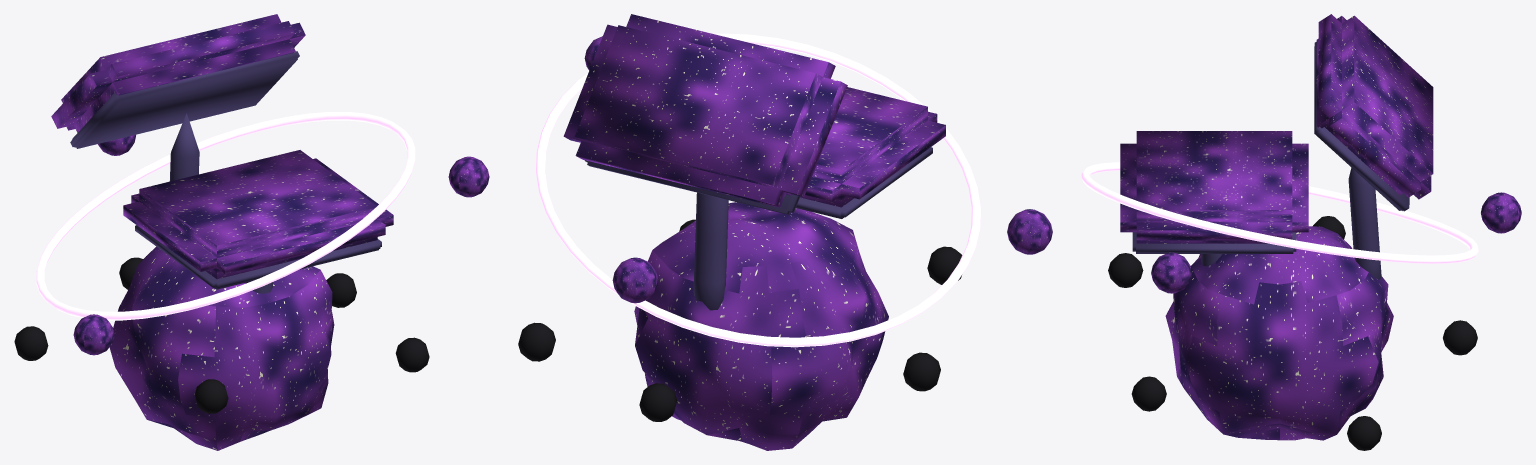
File: GalaxyBench.glb
The picture shows the model from 3 angles, left to right: view 1: azimuth 30°, elevation 25°; view 2: azimuth 150°, elevation 25°; view 3: azimuth 270°, elevation 25°; orthographic projection. The views are drawn at different scales.
Visible parts, largest first — view 1: GalaxyBench, GalaxyBench_Glow; view 2: GalaxyBench, GalaxyBench_Glow; view 3: GalaxyBench, GalaxyBench_Glow.
Boxes of the visible parts, box(x1,y1,x2,y2) form: GalaxyBench: box(14, 14, 489, 450); GalaxyBench_Glow: box(36, 112, 415, 320); GalaxyBench: box(518, 14, 1052, 450); GalaxyBench_Glow: box(536, 33, 981, 347); GalaxyBench: box(1108, 14, 1521, 450); GalaxyBench_Glow: box(1081, 162, 1478, 263).
Bounding box in the file's own units: 4.23 × 3.63 × 3.9.
2 materials, 1 textured.
